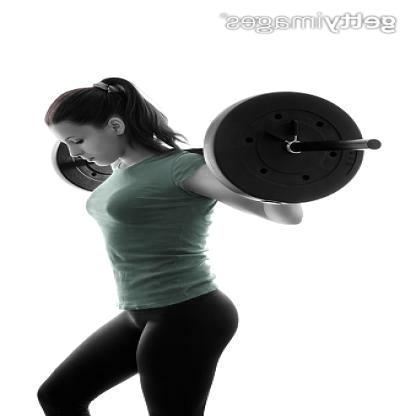Barbell: (361, 135, 392, 154)
